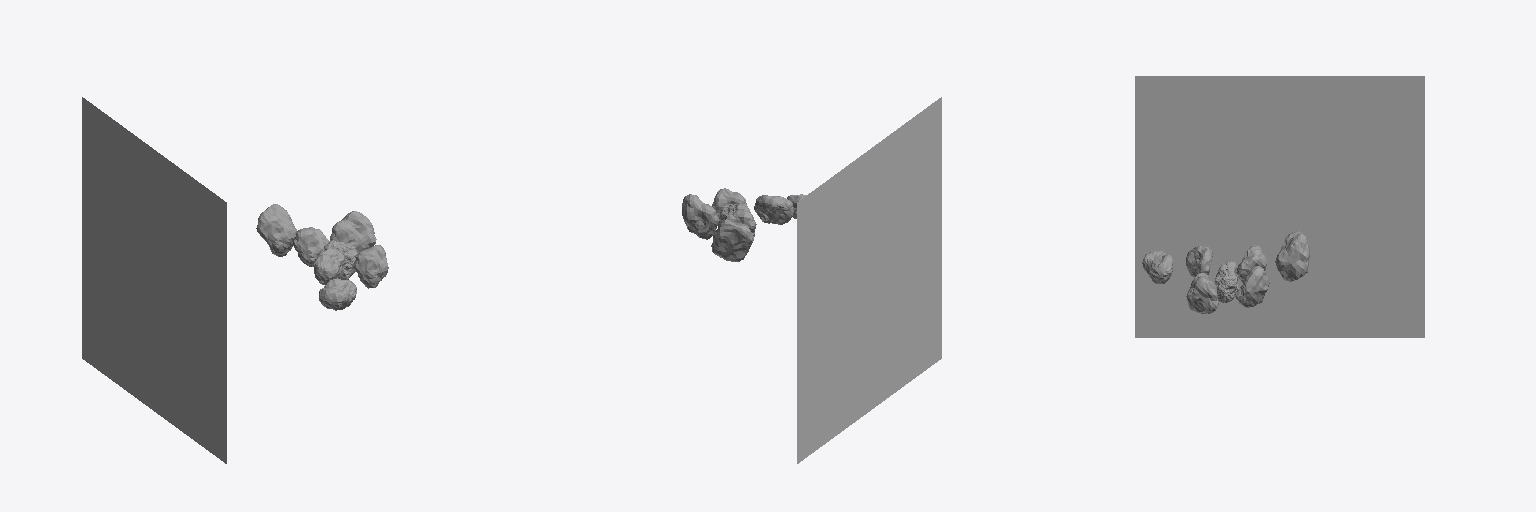
Rendered from astroid.obj.
3 views of the same model, side by side, from view 1: azimuth 30°, elevation 25°; view 2: azimuth 150°, elevation 25°; view 3: azimuth 270°, elevation 25° (orthographic).
Visible parts, largest first — view 1: Plane, Cube.005, Cube.003, Cube.004, Cube.006, Cube.001, Cube.002, Cube; view 2: Plane, Cube.005, Cube.003, Cube.002; view 3: Plane, Cube.005, Cube.004, Cube.003, Cube.006, Cube, Cube.002, Cube.001.
Boxes of the visible parts, x1,y1,x2,y2 form: Plane: [82, 97, 226, 463]; Cube.005: [256, 204, 296, 256]; Cube.003: [330, 211, 376, 252]; Cube.004: [353, 245, 388, 288]; Cube.006: [319, 278, 356, 310]; Cube.001: [293, 227, 329, 266]; Cube.002: [314, 248, 345, 284]; Cube: [324, 240, 357, 279]; Plane: [797, 97, 941, 463]; Cube.005: [711, 219, 753, 261]; Cube.003: [682, 194, 718, 239]; Cube.002: [754, 195, 793, 224]; Plane: [1135, 76, 1424, 337]; Cube.005: [1275, 231, 1309, 281]; Cube.004: [1186, 273, 1218, 313]; Cube.003: [1235, 266, 1269, 307]; Cube.006: [1142, 251, 1172, 283]; Cube: [1214, 260, 1238, 302]; Cube.002: [1186, 246, 1212, 277]; Cube.001: [1237, 245, 1267, 282].
Bounding box in the file's own units: 12.48 × 15.43 × 15.43.